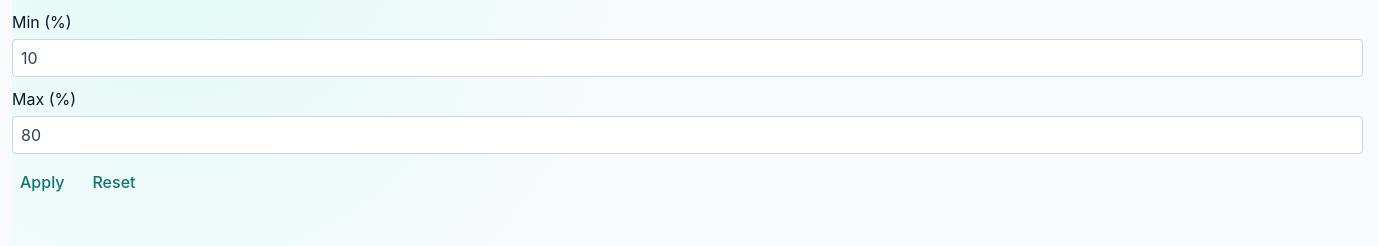
Test: threshold drafts › rejects reversed ranges without overwriting applied values
Replace the text in the field labelled "Min (%)" with "90". click: (688, 58)
box: [12,39,1363,77]
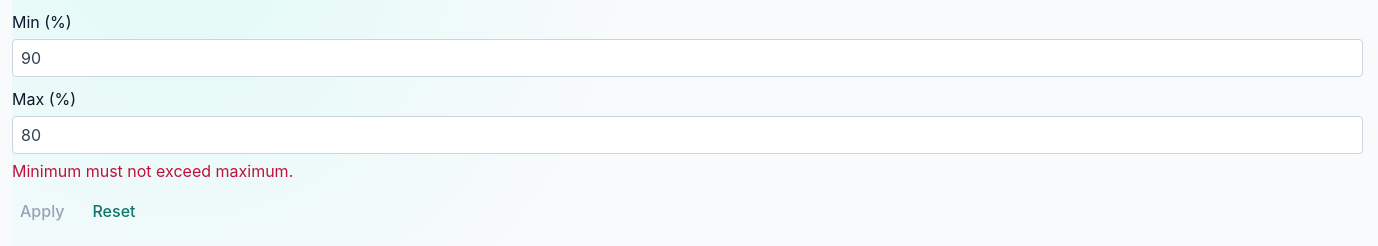
Result: the message shows "Minimum" at [12,161,293,181]
Result: the button "Apply" is disabled at [12,193,72,229]
